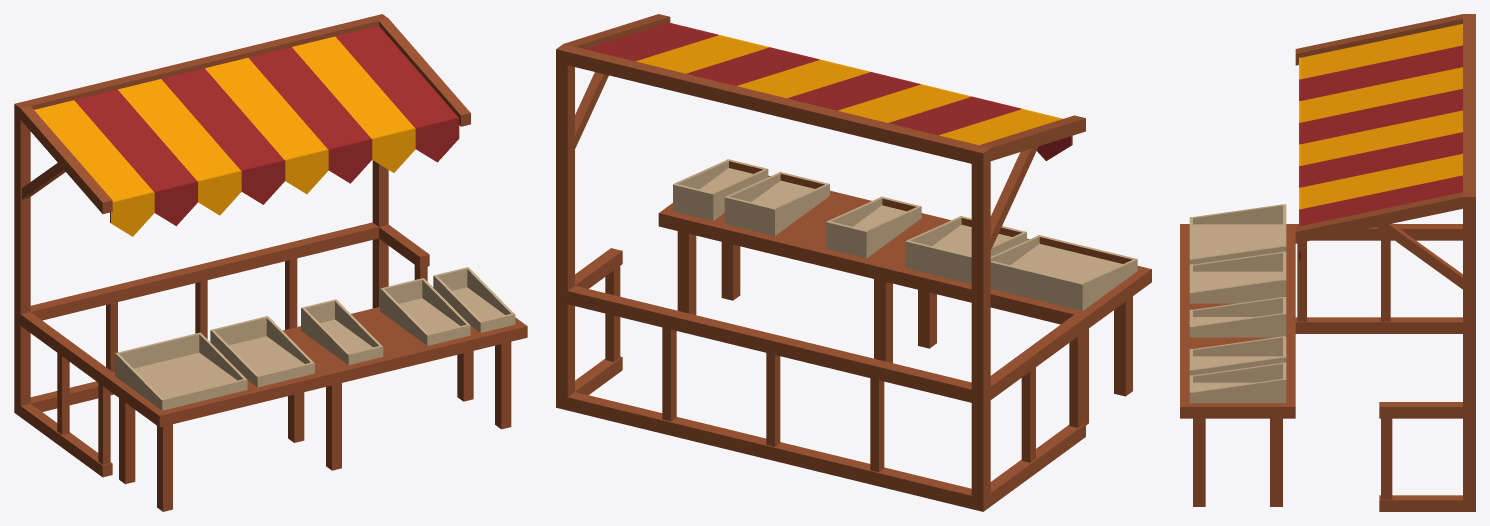
File: Prop_Fantasy_Market_Stall_Boxes_01.FBX
3 views of the same model, side by side, from view 1: azimuth 30°, elevation 25°; view 2: azimuth 150°, elevation 25°; view 3: azimuth 270°, elevation 25° (orthographic). The views are drawn at different scales.
Parts seen in each view (by area): view 1: Prop_Fantasy_Market_Stall_Boxes_01; view 2: Prop_Fantasy_Market_Stall_Boxes_01; view 3: Prop_Fantasy_Market_Stall_Boxes_01.
Boxes of the visible parts, left/top/right/bottom form: Prop_Fantasy_Market_Stall_Boxes_01: left=14, top=14, right=527, bottom=511; Prop_Fantasy_Market_Stall_Boxes_01: left=556, top=14, right=1151, bottom=511; Prop_Fantasy_Market_Stall_Boxes_01: left=1180, top=14, right=1475, bottom=511.
Size of the model in its own units: 3460 by 2775 by 2364.
